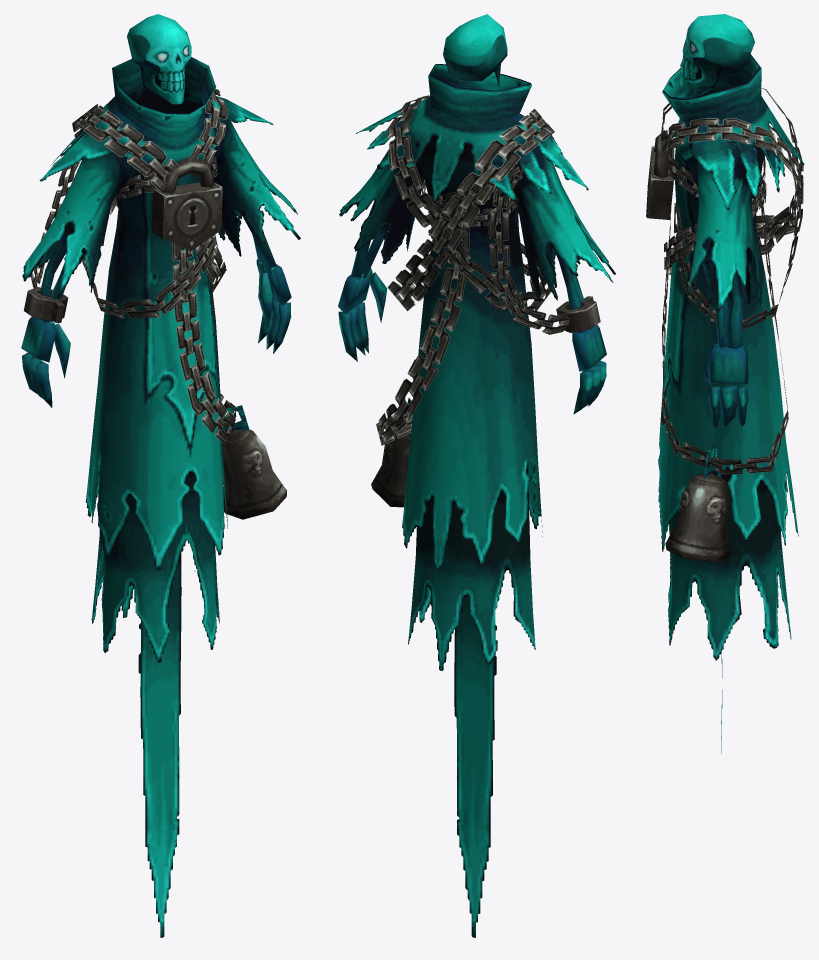
File: ghost_767c4fba.glb
The picture shows the model from 3 angles, left to right: view 1: azimuth 30°, elevation 25°; view 2: azimuth 150°, elevation 25°; view 3: azimuth 270°, elevation 25°; orthographic projection.
Bounding box in the file's own units: 1.5 × 4.68 × 0.7317.
Materials: 2 (2 with a texture image).
